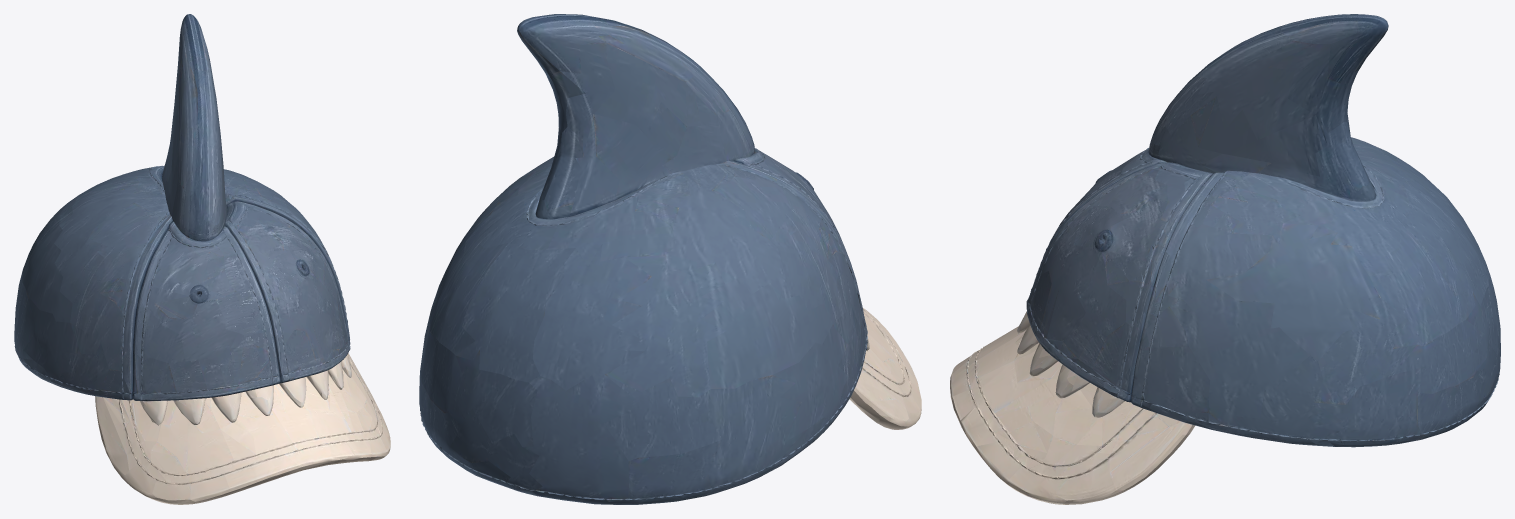
Rendered from shark_fin_cap.glb.
3 views of the same model, side by side, from view 1: azimuth 30°, elevation 25°; view 2: azimuth 150°, elevation 25°; view 3: azimuth 270°, elevation 25° (orthographic). The views are drawn at different scales.
Visible parts, largest first — view 1: Mesh_0; view 2: Mesh_0; view 3: Mesh_0.
Boxes of the visible parts, x1,y1,x2,y2 form: Mesh_0: [14, 14, 390, 504]; Mesh_0: [419, 14, 921, 504]; Mesh_0: [950, 14, 1500, 504].
Size of the model in its own units: 0.7257 by 0.8936 by 1.
1 material, 1 textured.
